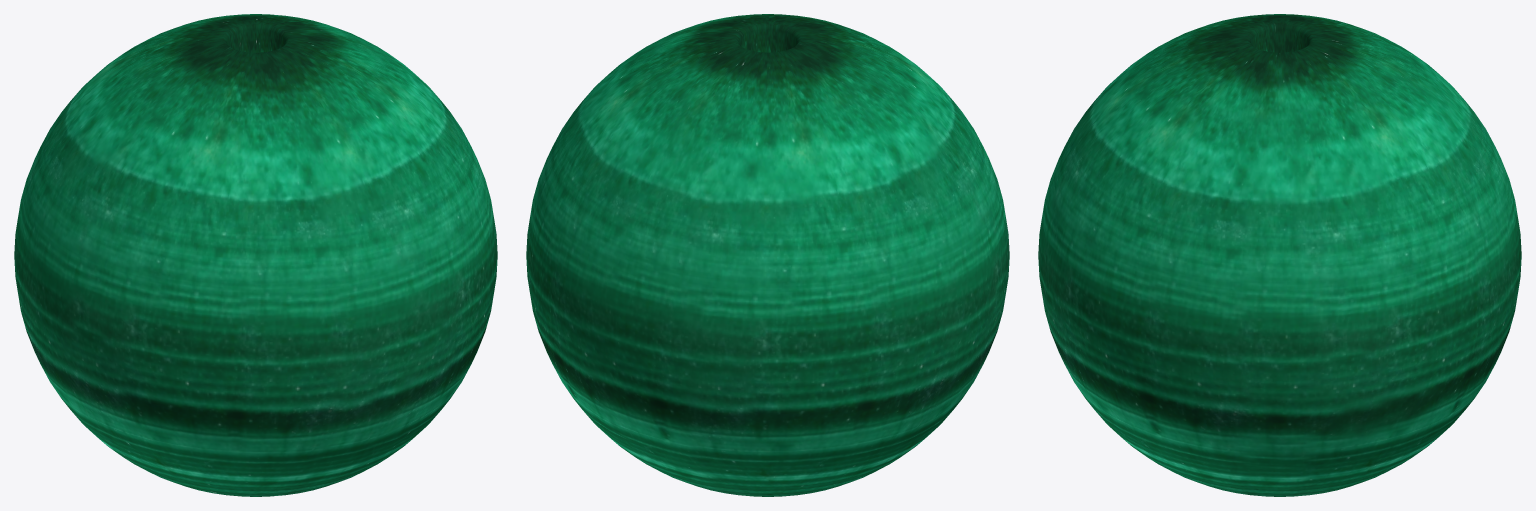
3 views of the same model, side by side, from view 1: azimuth 30°, elevation 25°; view 2: azimuth 150°, elevation 25°; view 3: azimuth 270°, elevation 25° (orthographic).
Parts seen in each view (by area): view 1: Sphere.001; view 2: Sphere.001; view 3: Sphere.001.
Boxes of the visible parts, x1,y1,x2,y2 form: Sphere.001: (14, 14, 497, 496); Sphere.001: (526, 14, 1009, 496); Sphere.001: (1038, 14, 1521, 496).
Size of the model in its own units: 1 by 0.9894 by 1.
Materials: 1 (1 with a texture image).
